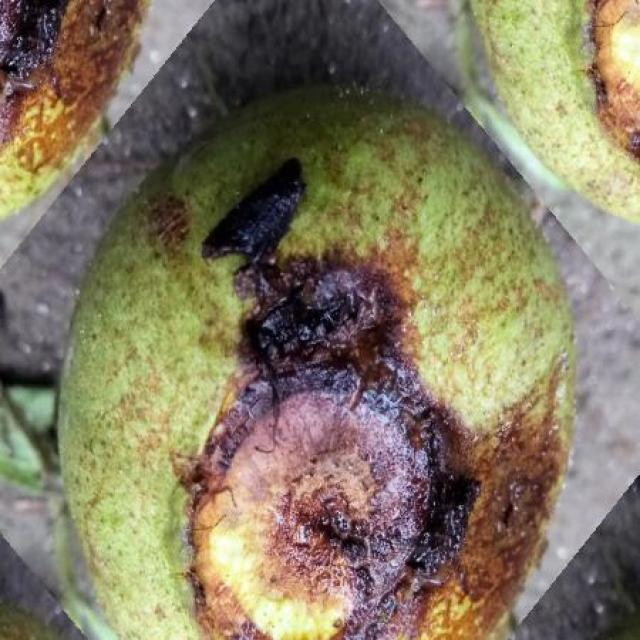Styler and Root: (61, 91, 571, 640), (0, 0, 148, 196)
